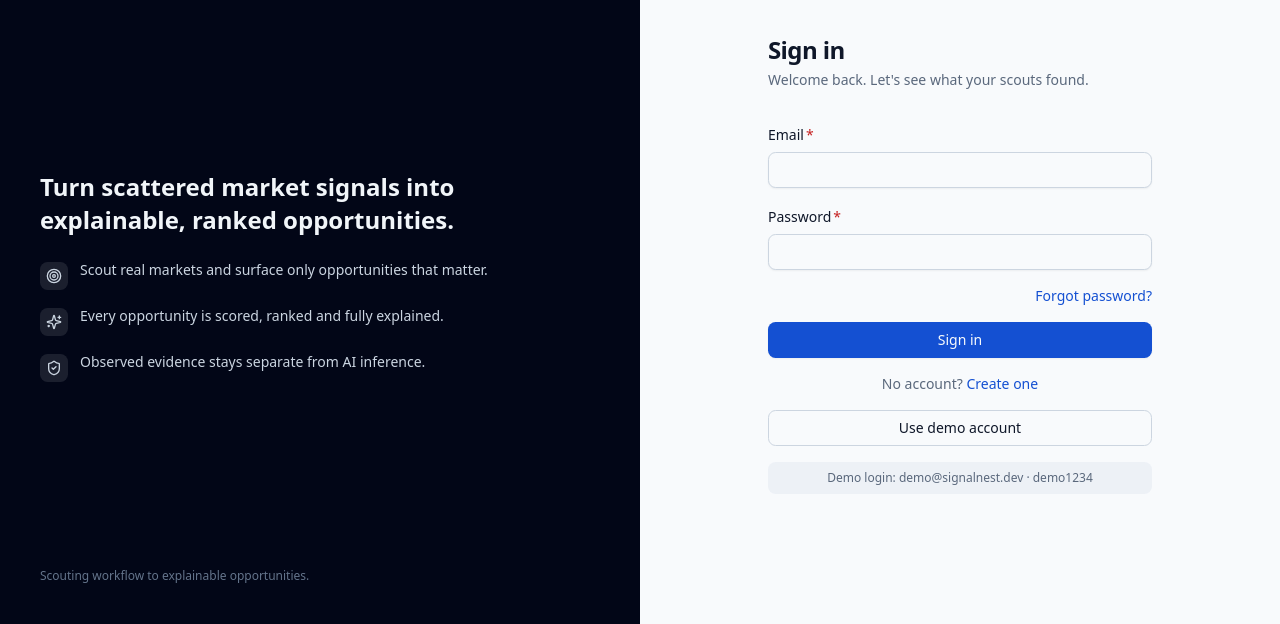
Test: route inventory (plan §5A.3) › /context sends a signed-out visitor to sign-in, then back after sign-in
expect the heading "Sign in" is shown: met, box [768, 33, 845, 66]
expect the heading "Campaign context" is not shown: met
Click the button "Use demo account": (960, 428) [768, 410, 1152, 446]
(page scrolled)
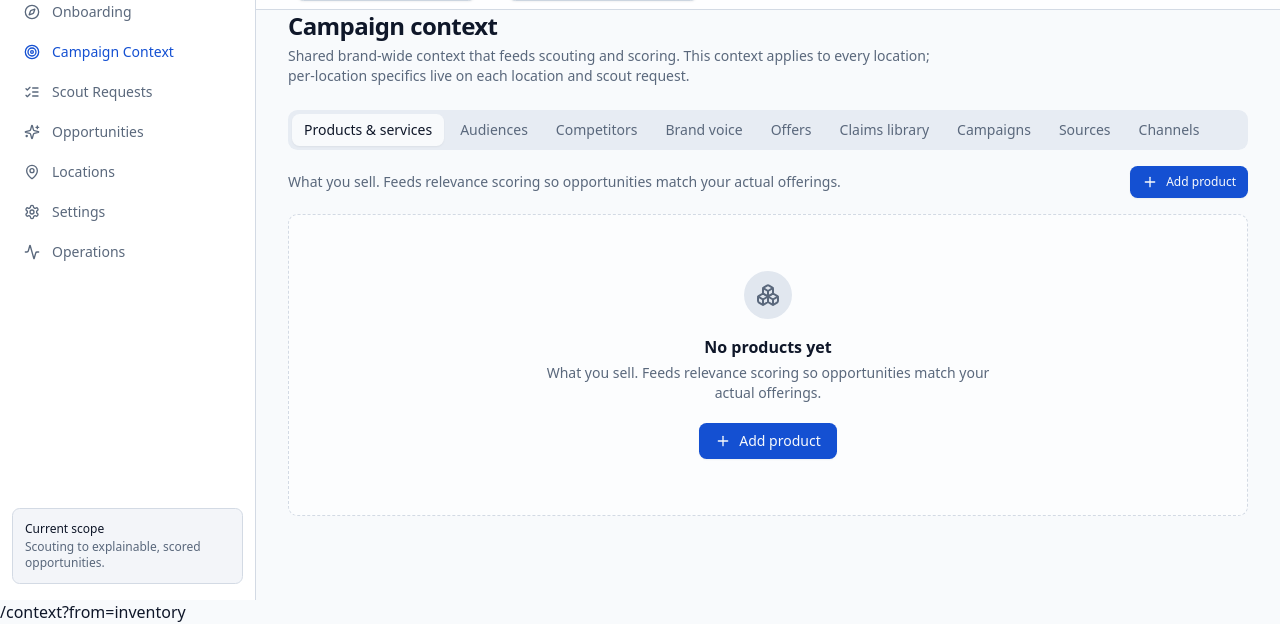
expect the heading "Campaign context" is shown: met, box [288, 9, 497, 42]
